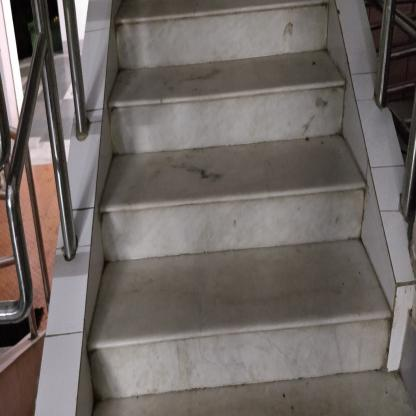stairs: (134, 15, 326, 416)
